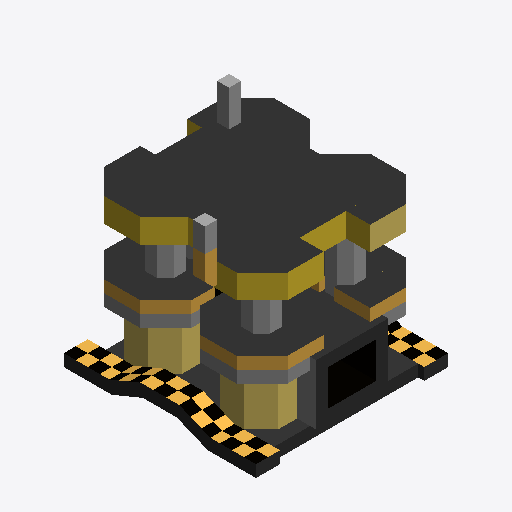
A Minecraft block model of 114 cuboids, rendered isometrically (azimuth 45°, elevation 35.3°) with the resource pack's own textures.
Visible parts, largest first — element 103, element 49, element 2, element 48, element 83, element 35, element 38, element 30, element 45, element 96, element 100, element 31 (+28 smaller).
Part boxes in pixels (x1,y1,x2,y2): element 103: (118, 109, 380, 258); element 49: (186, 257, 387, 373); element 2: (106, 339, 417, 456); element 48: (297, 360, 387, 428); element 83: (346, 199, 405, 251); element 35: (200, 314, 271, 383); element 38: (334, 273, 405, 324); element 30: (104, 259, 175, 327); element 45: (208, 424, 279, 477); element 96: (237, 245, 287, 299); element 100: (104, 182, 163, 243); element 31: (140, 286, 190, 327).
Bounding box in the file's own units: 16 × 16 × 16.